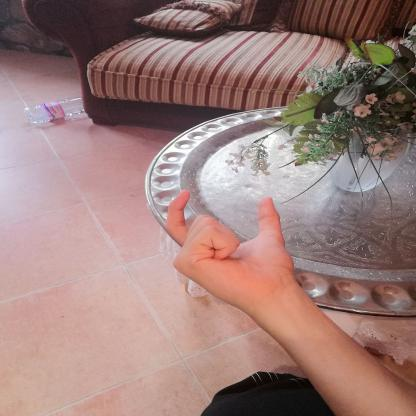NOON: (152, 178, 307, 316)
